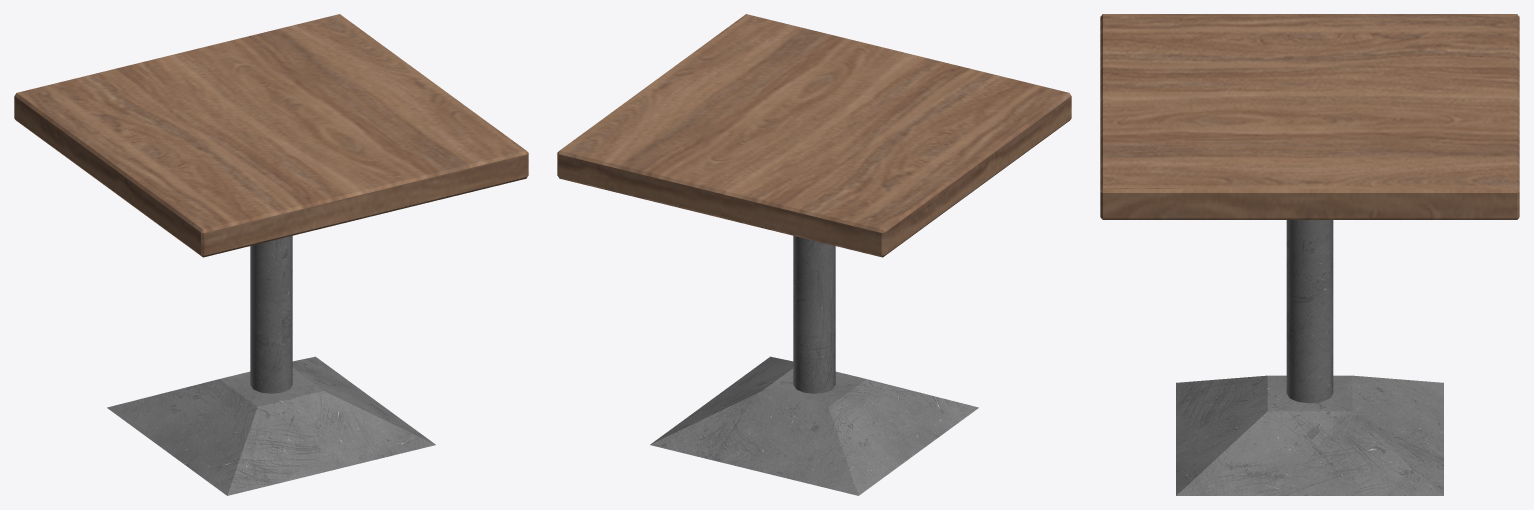
The model's file is L_SU_Table_02_D.fbx.
3 views of the same model, side by side, from view 1: azimuth 30°, elevation 25°; view 2: azimuth 150°, elevation 25°; view 3: azimuth 270°, elevation 25° (orthographic). The views are drawn at different scales.
Visible parts, largest first — view 1: L_SU_Table_02_D; view 2: L_SU_Table_02_D; view 3: L_SU_Table_02_D.
Part boxes in pixels (x1,y1,x2,y2): L_SU_Table_02_D: (14, 14, 528, 495); L_SU_Table_02_D: (557, 14, 1071, 495); L_SU_Table_02_D: (1100, 14, 1519, 495).
Bounding box in the file's own units: 90 × 80 × 90.
